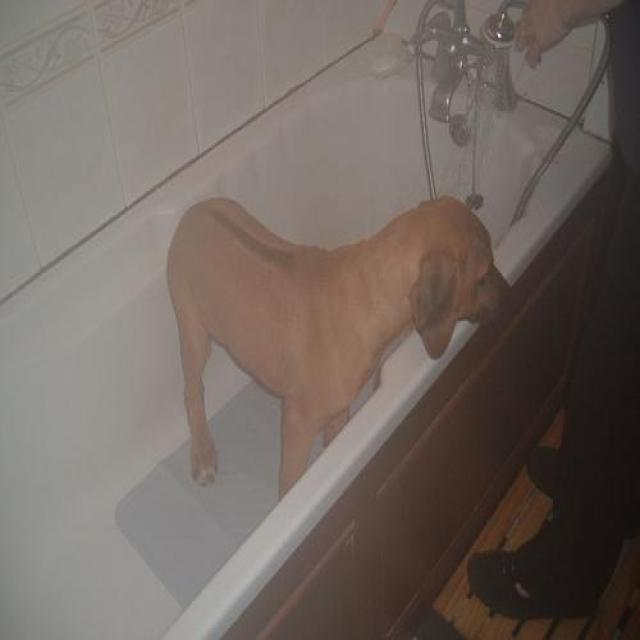rhodesian_ridgeback: (160, 190, 518, 508)
